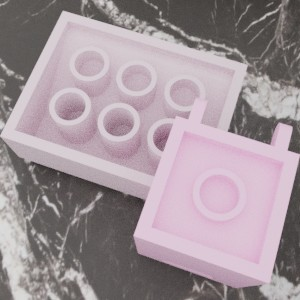lego: (0, 10, 247, 217), (133, 97, 300, 288)
